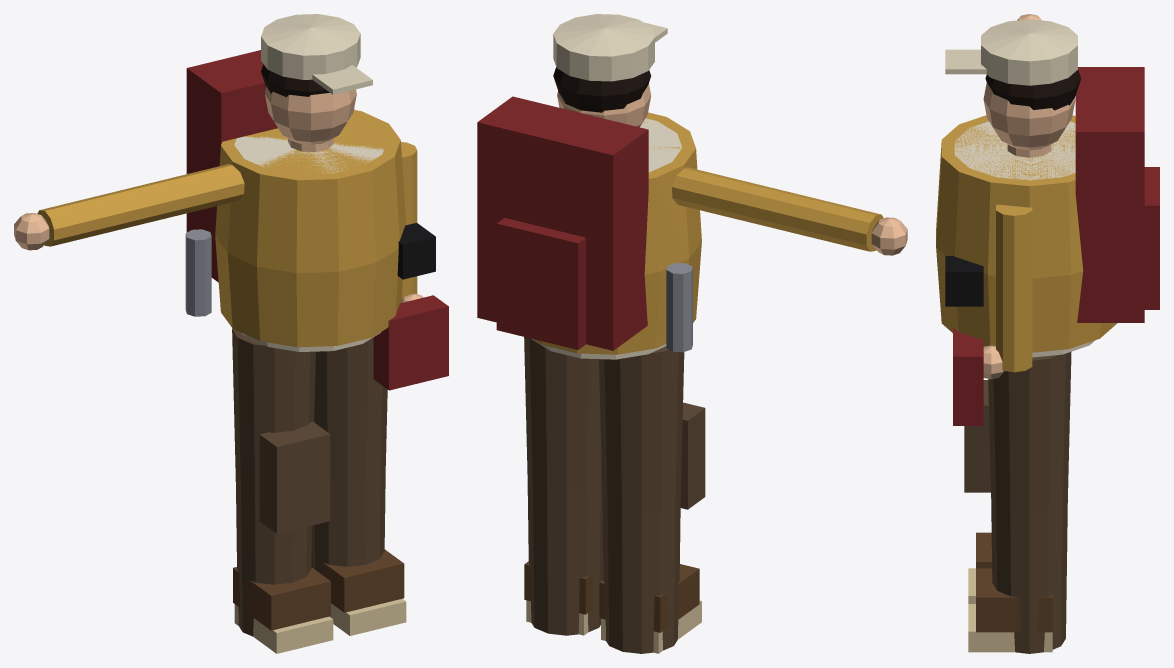
Rendered from main_hero_traveler.obj.
3 renders of one model, left to right at view 1: azimuth 30°, elevation 25°; view 2: azimuth 150°, elevation 25°; view 3: azimuth 270°, elevation 25°, orthographic. The views are drawn at different scales.
Parts seen in each view (by area): view 1: main_hero_traveler; view 2: main_hero_traveler; view 3: main_hero_traveler.
Part boxes in pixels (left/top/right/bottom): main_hero_traveler: left=14, top=14, right=448, bottom=653; main_hero_traveler: left=477, top=14, right=907, bottom=653; main_hero_traveler: left=936, top=14, right=1159, bottom=653.
Bounding box in the file's own units: 1.19 × 1.69 × 0.5837.
